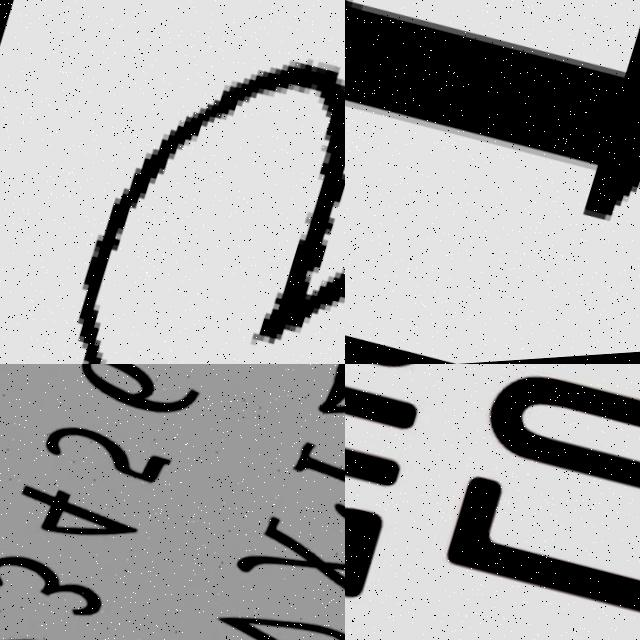0: (475, 364, 640, 538)
2: (0, 579, 113, 640)
3: (0, 527, 127, 640)
4: (0, 452, 159, 594)
5: (34, 0, 345, 364), (12, 380, 197, 534)
6: (40, 364, 226, 466)
7: (66, 364, 257, 397)
L: (442, 468, 640, 640)
T: (345, 0, 640, 302)
U: (345, 364, 424, 509)
